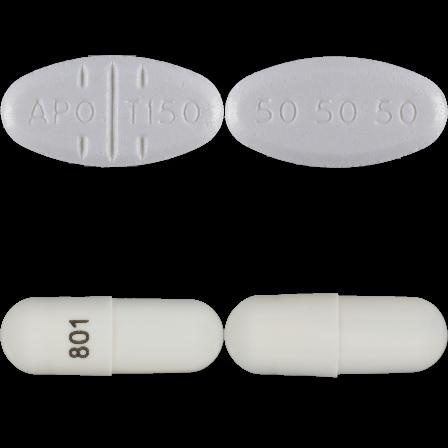10544-867: (0, 0, 224, 224)
